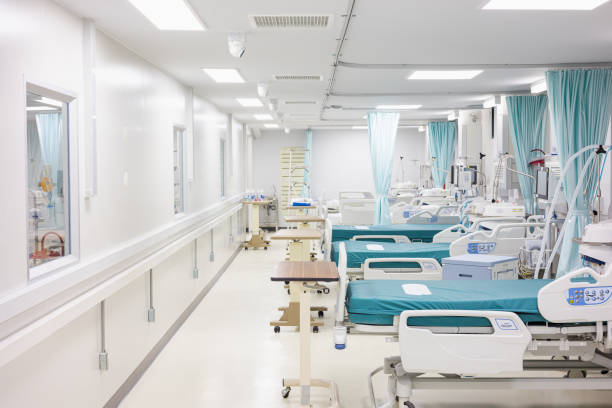bedrail: (397, 310, 532, 376), (536, 267, 612, 323), (449, 223, 549, 257), (433, 218, 526, 243), (363, 256, 442, 280), (406, 204, 469, 225), (348, 234, 412, 243), (337, 191, 377, 200)
bedside_monitor: (535, 168, 550, 198)
breathing_tube: (536, 142, 596, 282)
curtain: (543, 67, 612, 280), (505, 96, 549, 216), (368, 111, 398, 225), (427, 122, 457, 189)
foot_board: (333, 240, 350, 350), (324, 218, 332, 262), (320, 202, 327, 218)
hospital_bed: (332, 241, 612, 408), (324, 216, 527, 281)
medical_drawer: (435, 254, 523, 281)
overbed_table: (268, 260, 345, 408), (242, 189, 272, 251), (269, 227, 323, 260), (280, 192, 321, 215), (283, 213, 323, 227)
